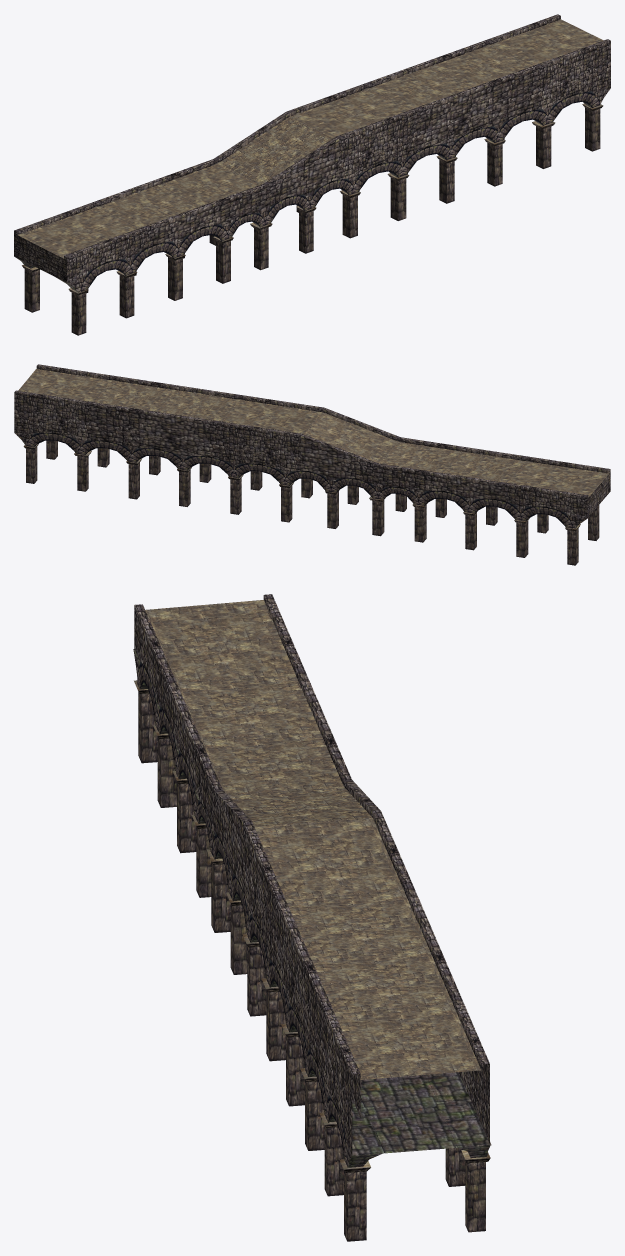
File: fort_pier_kings.fbx
3 views of the same model, one above another, from view 1: azimuth 30°, elevation 25°; view 2: azimuth 150°, elevation 25°; view 3: azimuth 270°, elevation 25° (orthographic). The views are drawn at different scales.
Parts seen in each view (by area): view 1: polySurface524, large_peir_stone_floor2, polySurface522, large_peir_stone_floor3, column64, column71, column65, column63, column69, column58, column62, column61 (+15 smaller); view 2: polySurface524, polySurface522, large_peir_stone_floor2, large_peir_stone_floor3, arch32, arch27, arch26, arch24, arch33, arch25, arch34, arch31 (+16 smaller); view 3: large_peir_stone_floor3, large_peir_stone_floor2, polySurface524, polySurface522, undernethShape3, column71, column72, column70, column64, column63, column69, column61 (+6 smaller).
Part boxes in pixels (bbox=[...]): polySurface524: bbox=[286, 14, 610, 181]; large_peir_stone_floor2: bbox=[17, 117, 332, 258]; polySurface522: bbox=[14, 112, 339, 282]; large_peir_stone_floor3: bbox=[290, 19, 603, 138]; column64: bbox=[390, 177, 406, 220]; column71: bbox=[585, 107, 600, 151]; column65: bbox=[439, 159, 454, 203]; column63: bbox=[342, 194, 357, 238]; column69: bbox=[487, 142, 502, 186]; column58: bbox=[24, 269, 39, 312]; column62: bbox=[71, 292, 86, 335]; column61: bbox=[119, 275, 134, 318]; polySurface524: bbox=[14, 364, 323, 473]; polySurface522: bbox=[300, 407, 610, 518]; large_peir_stone_floor2: bbox=[304, 412, 608, 496]; large_peir_stone_floor3: bbox=[18, 369, 322, 434]; arch32: bbox=[467, 499, 521, 520]; arch27: bbox=[231, 463, 285, 485]; arch26: bbox=[179, 456, 236, 477]; arch24: bbox=[77, 440, 131, 461]; arch33: bbox=[520, 506, 572, 528]; arch25: bbox=[128, 448, 182, 469]; arch34: bbox=[26, 432, 83, 453]; arch31: bbox=[418, 491, 469, 512]; large_peir_stone_floor3: bbox=[254, 817, 480, 1079]; large_peir_stone_floor2: bbox=[145, 600, 372, 826]; polySurface524: bbox=[243, 811, 489, 1154]; polySurface522: bbox=[134, 594, 380, 892]; undernethShape3: bbox=[352, 1072, 491, 1155]; column71: bbox=[344, 1170, 366, 1241]; column72: bbox=[465, 1161, 485, 1232]; column70: bbox=[324, 1126, 344, 1196]; column64: bbox=[266, 990, 285, 1061]; column63: bbox=[247, 946, 266, 1016]; column69: bbox=[305, 1080, 324, 1150]; column61: bbox=[157, 737, 176, 807].
Bounding box in the file's own units: 27206 × 4361 × 7975.
Materials: 5 (5 with a texture image).
